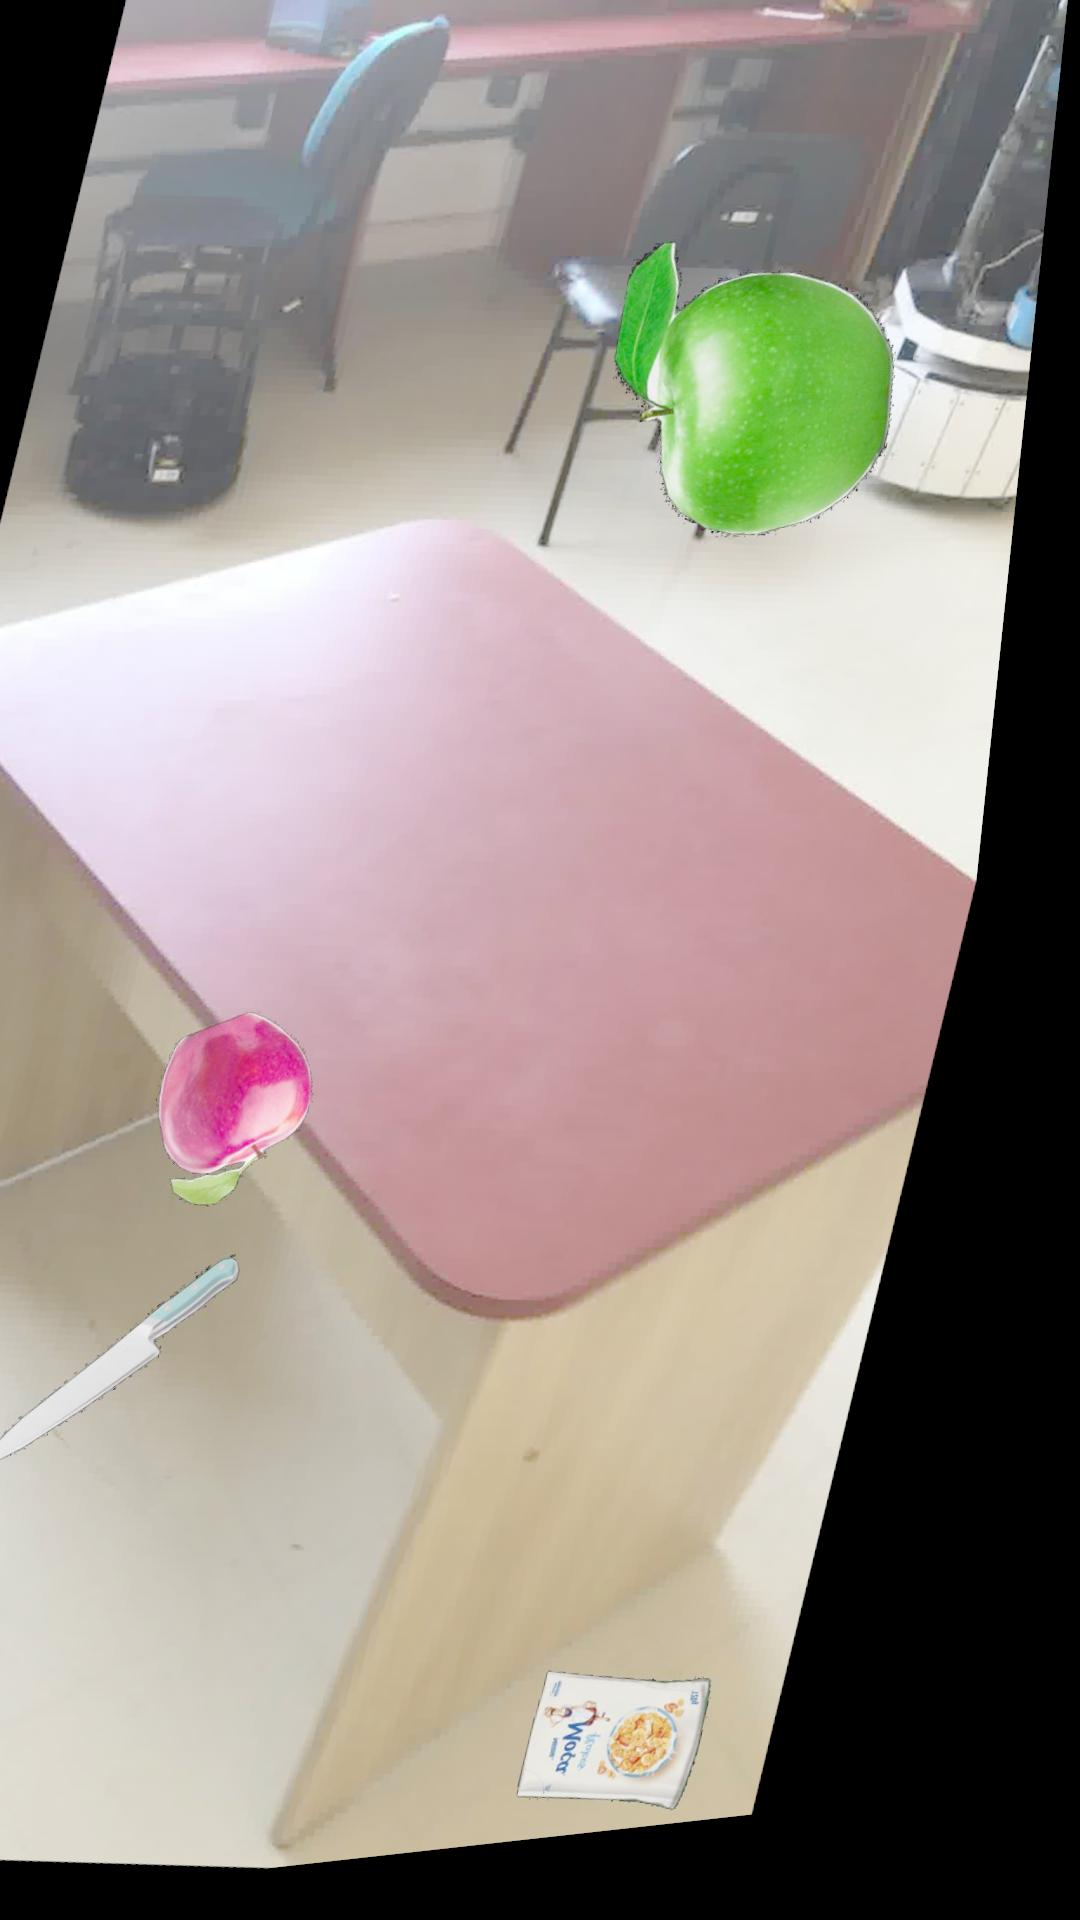apple: (182, 1018, 336, 1212)
corn flakes: (556, 1687, 749, 1829)
green apple: (622, 257, 903, 553)
knife: (15, 1261, 268, 1466)
